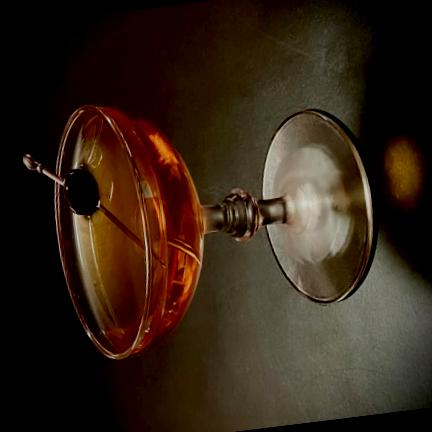container: (54, 104, 203, 357)
fluid: (105, 105, 199, 349)
fluid-surface: (71, 106, 163, 349)
